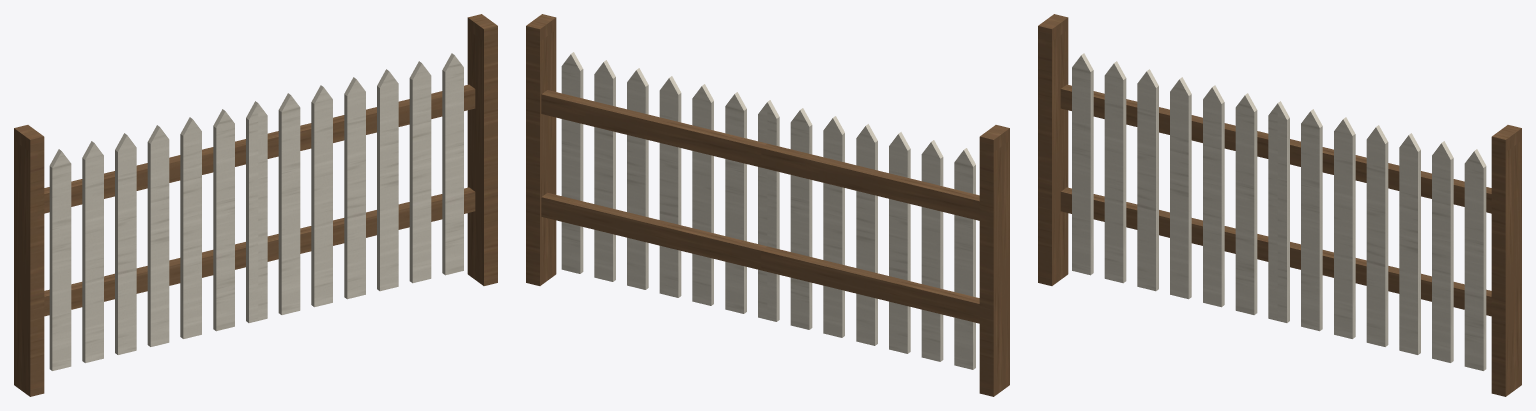
The model's file is fence.glb.
The picture shows the model from 3 angles, left to right: view 1: azimuth 30°, elevation 25°; view 2: azimuth 150°, elevation 25°; view 3: azimuth 330°, elevation 25°; orthographic projection.
Parts seen in each view (by area): view 1: Fence_pickets, Fence_oak; view 2: Fence_pickets, Fence_oak; view 3: Fence_pickets, Fence_oak.
Part boxes in pixels (left/top/right/bottom): Fence_pickets: left=49, top=53, right=463, bottom=370; Fence_oak: left=14, top=14, right=497, bottom=396; Fence_pickets: left=561, top=52, right=975, bottom=369; Fence_oak: left=526, top=14, right=1009, bottom=396; Fence_pickets: left=1072, top=53, right=1486, bottom=370; Fence_oak: left=1038, top=14, right=1521, bottom=396.
Bounding box in the file's own units: 2 × 1.05 × 0.12.
Materials: 2 (2 with a texture image).
